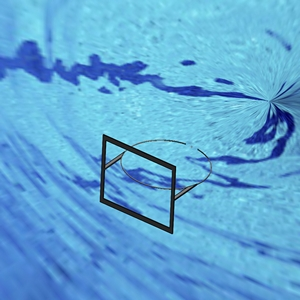circle: (99, 134, 213, 236)
